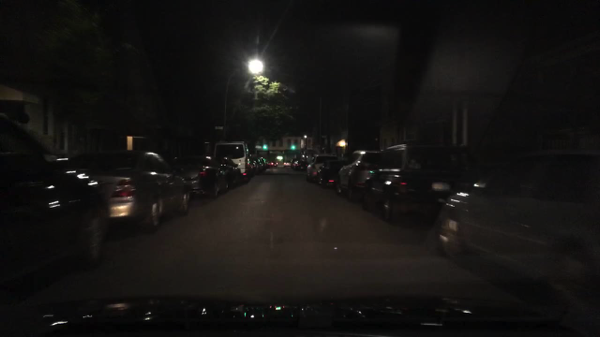car: (437, 149, 599, 317), (0, 110, 111, 284), (71, 151, 190, 236), (362, 141, 481, 223), (172, 155, 229, 201), (335, 149, 378, 204), (213, 140, 252, 184), (315, 158, 350, 189), (305, 153, 338, 179), (217, 156, 243, 189), (294, 158, 310, 171), (249, 156, 259, 174), (255, 158, 266, 173), (261, 157, 270, 169), (289, 157, 299, 166), (267, 161, 277, 168), (283, 160, 292, 166)
traffic light: (290, 141, 296, 150), (261, 141, 267, 150)
traffic sign: (213, 124, 223, 132), (254, 144, 260, 150)
